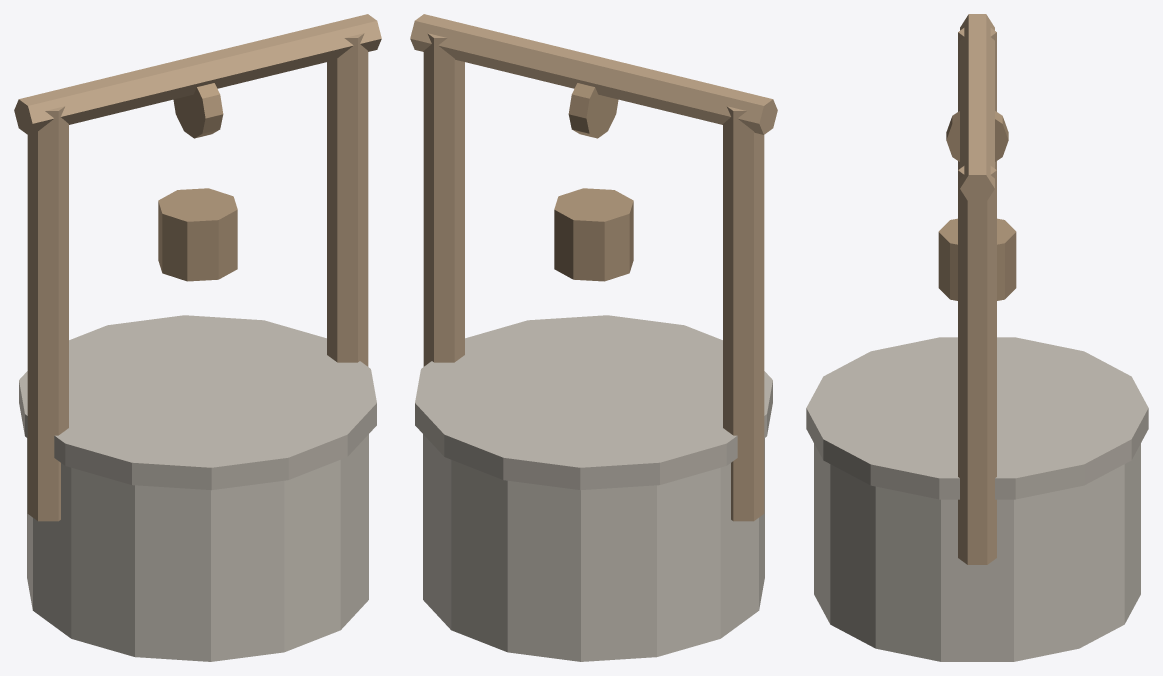
File: well.glb
3 renders of one model, left to right at view 1: azimuth 30°, elevation 25°; view 2: azimuth 150°, elevation 25°; view 3: azimuth 270°, elevation 25°, orthographic. The views are drawn at different scales.
Visible parts, largest first — view 1: well; view 2: well; view 3: well.
Boxes of the visible parts, bbox=[...] form: well: bbox=[14, 14, 381, 661]; well: bbox=[410, 14, 777, 661]; well: bbox=[806, 14, 1148, 661].
Size of the model in its own units: 0.98 by 1.42 by 0.88.
